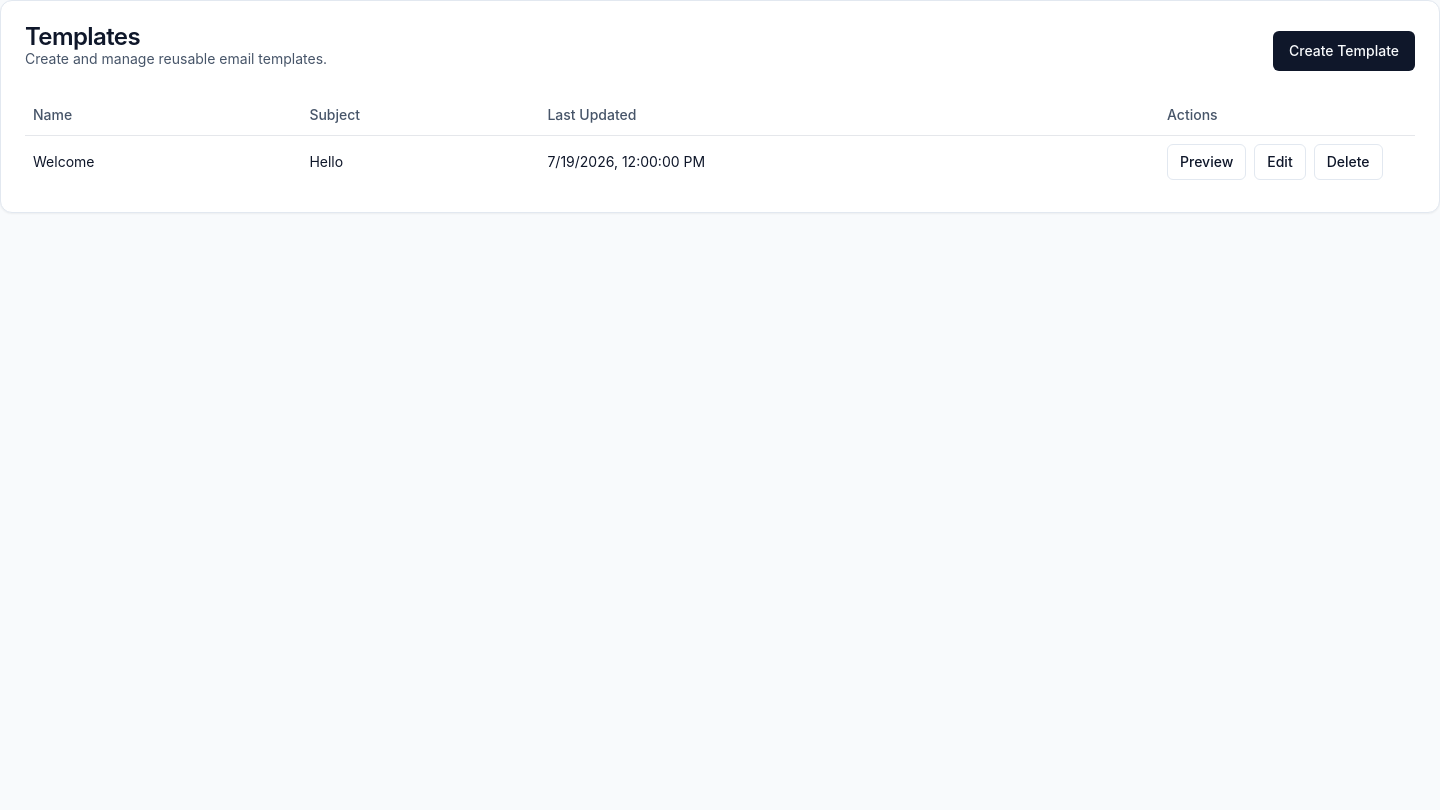
Test: TemplatesPage › shows delete confirmation and refreshes after delete
Click the button "Delete".
click(1348, 162)  # box top-left (1314, 144), bottom-right (1383, 180)
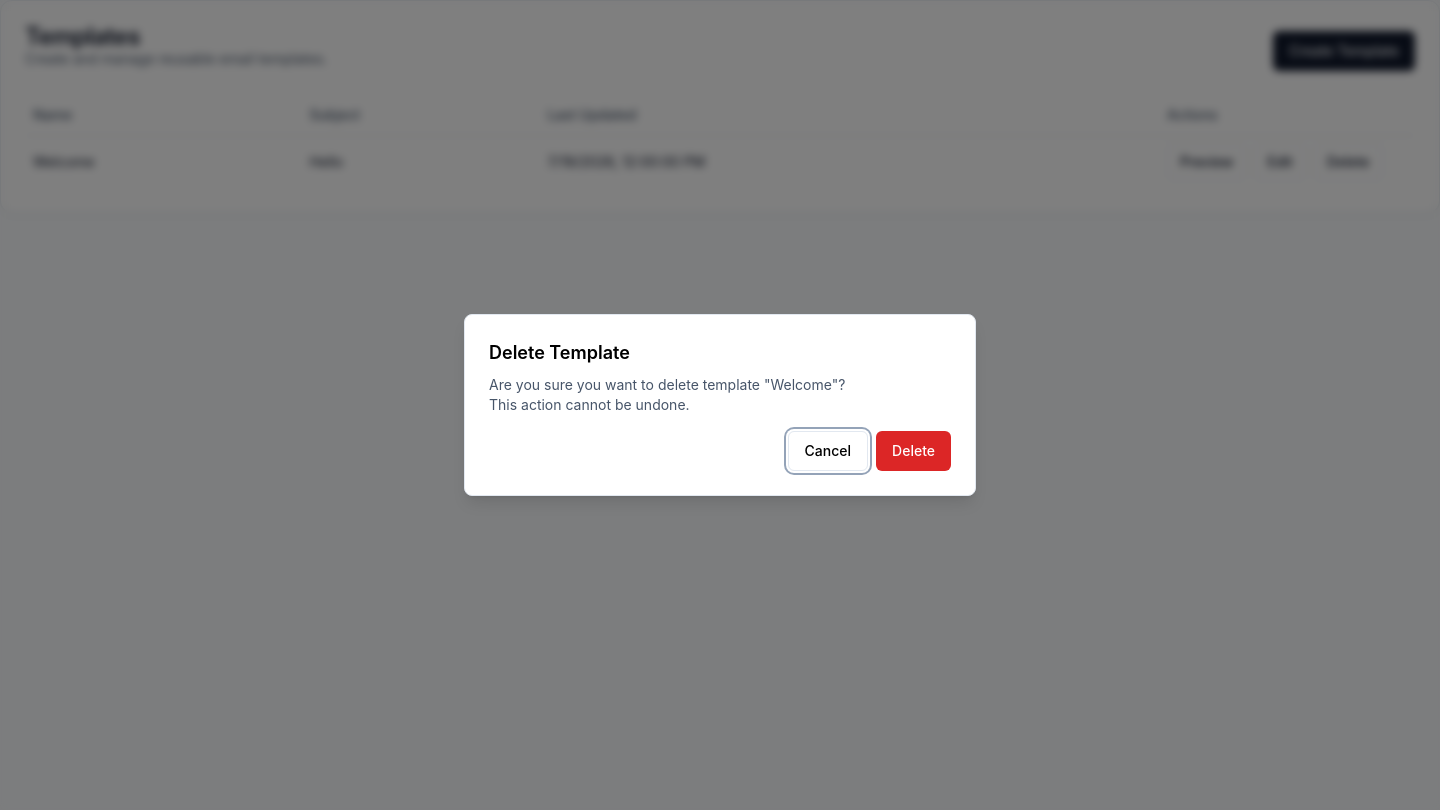
Check: the heading "Delete Template" is shown, box top-left (489, 342), bottom-right (630, 363)
Click the button "Delete".
click(914, 451)  # box top-left (876, 431), bottom-right (951, 471)
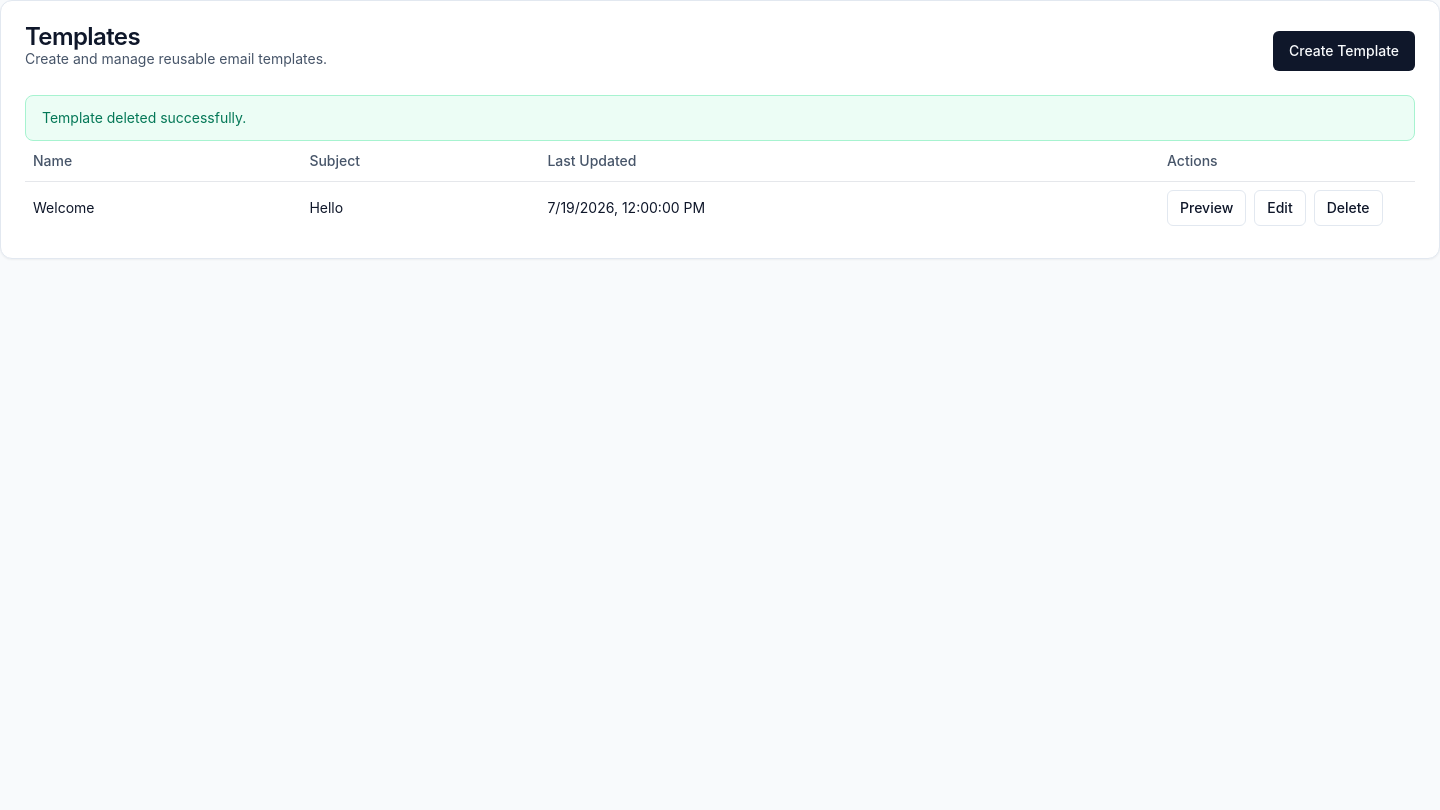
Check: the text "Template deleted successfully." is shown, box top-left (25, 95), bottom-right (1415, 141)
